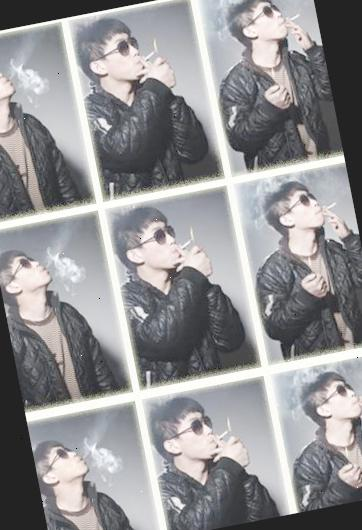smoke: (4, 47, 60, 107), (37, 240, 88, 290), (72, 432, 122, 482), (246, 177, 295, 222), (272, 365, 314, 415), (201, 0, 245, 34)
